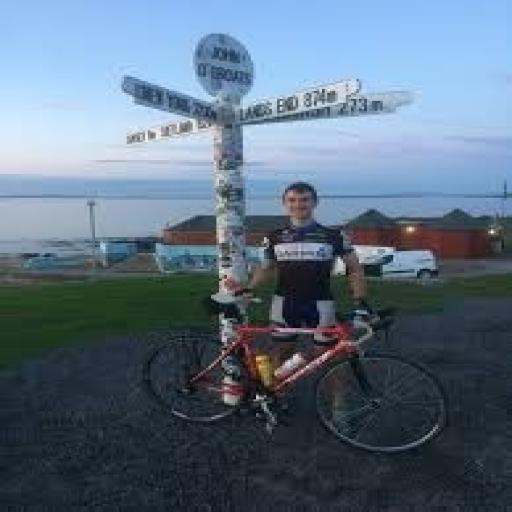cycling: (238, 180, 382, 425)
